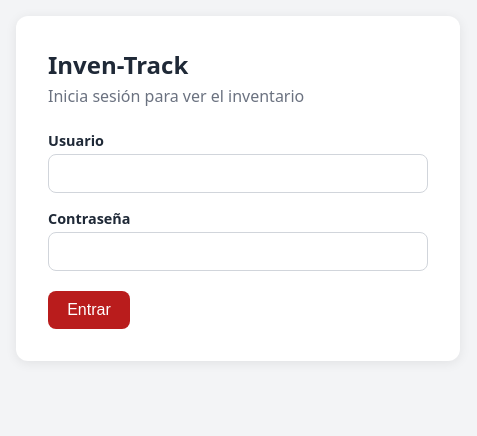
Test: App › muestra el error del servidor si el login falla y no entra a la vista de datos
Type "admin" into the field labelled "Usuario" at (238, 174), box [48, 154, 428, 193]
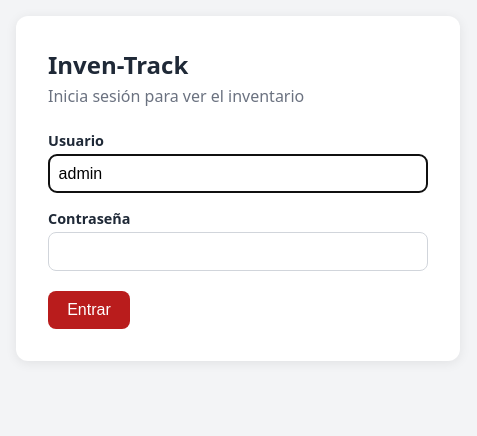
Type "mala" into the password field labelled "Contraseña" at (238, 252), box [48, 232, 428, 271]
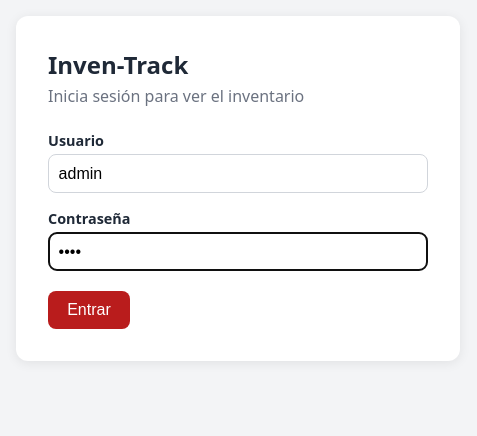
Click the button "Entrar" at (89, 310), box [48, 291, 130, 329]
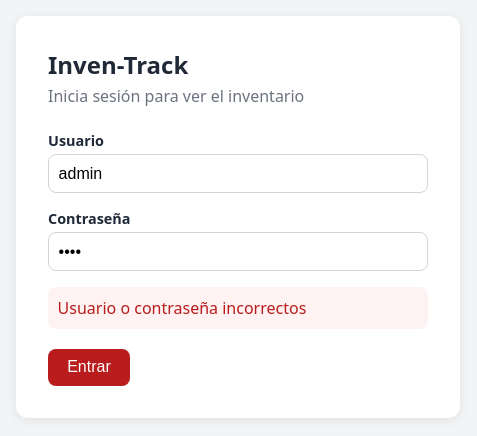
Now the message reads "Usuario o contraseña incorrectos", box [58, 297, 306, 319]
